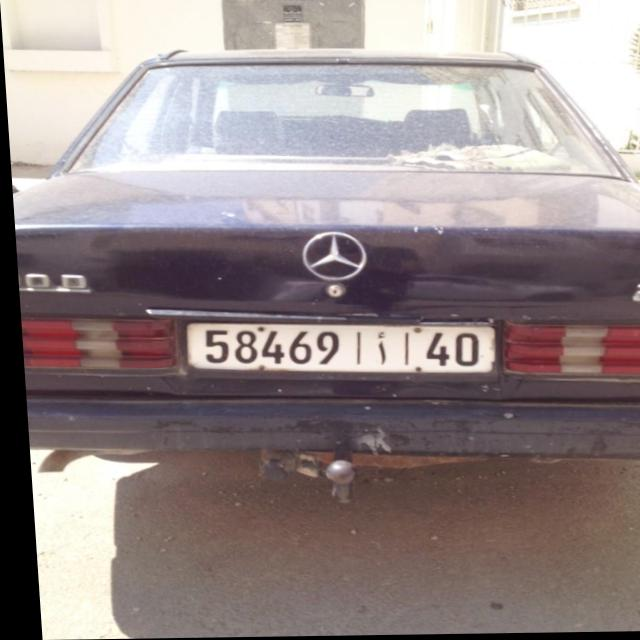License-Plate: (182, 324, 491, 374)
